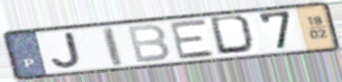7: (256, 10, 294, 53)
B: (125, 23, 173, 65)
D: (207, 14, 260, 56)
E: (168, 17, 218, 61)
I: (100, 25, 126, 68)
J: (49, 31, 83, 70)
